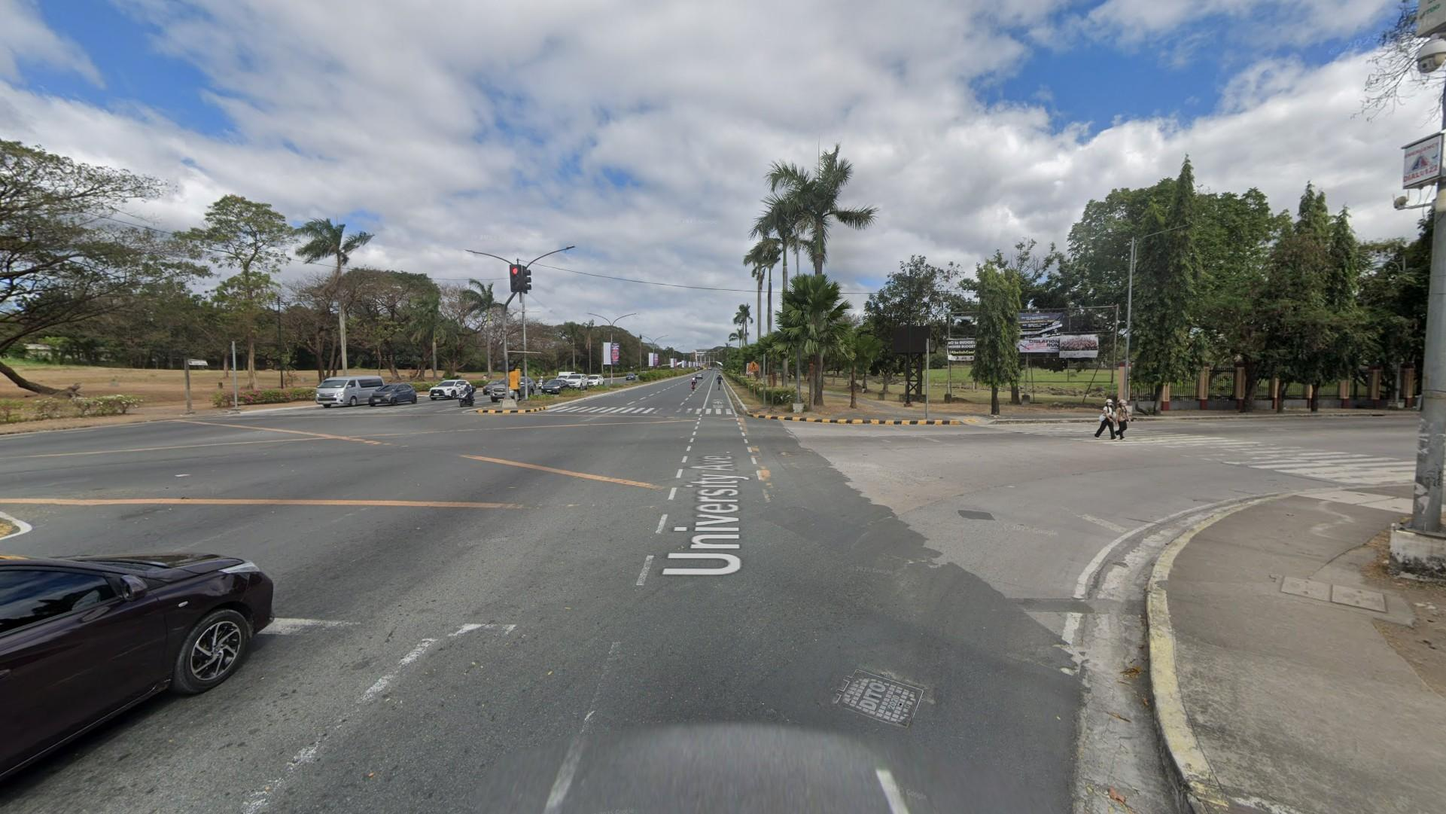cyclist: (716, 374, 723, 391), (691, 377, 697, 392)
pedestrian: (1094, 398, 1117, 441), (1113, 399, 1129, 440)
